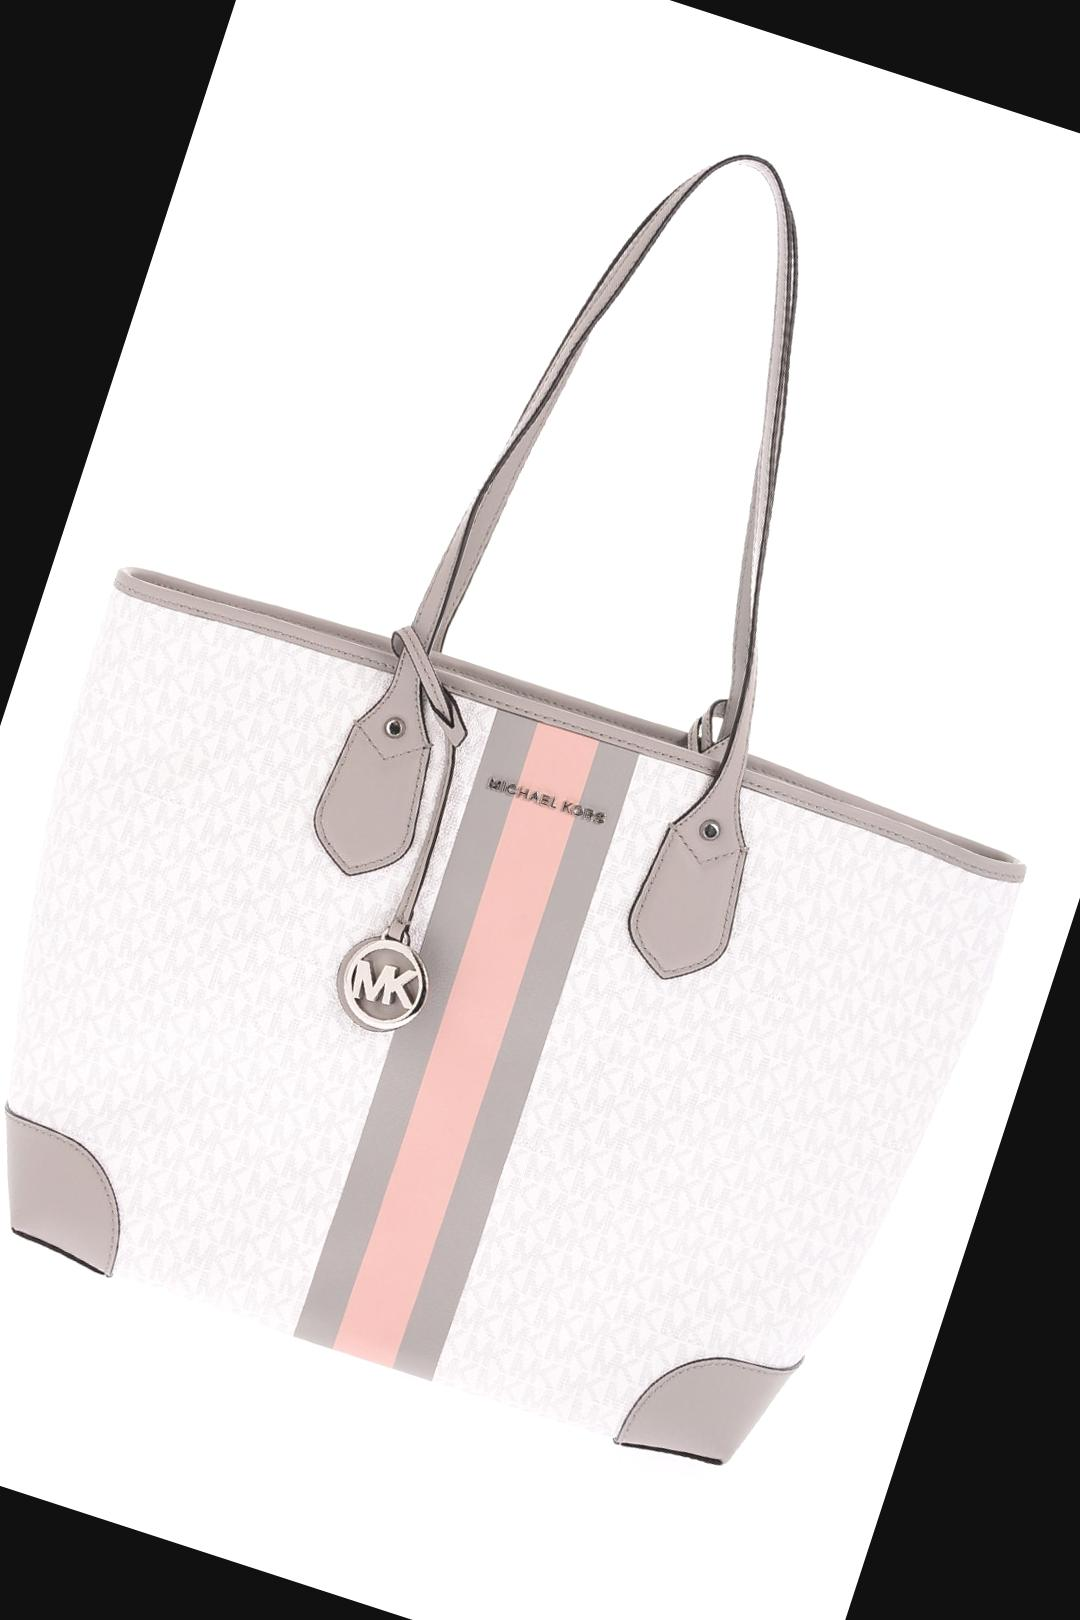MICHAEL-KORS: (486, 776, 607, 824)
